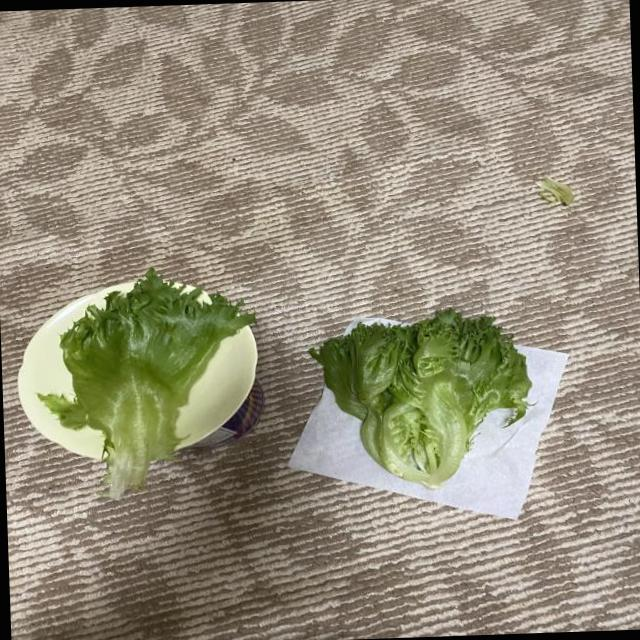Lettuce-Ready-to-Harvest: (39, 268, 254, 496), (310, 308, 531, 487)
